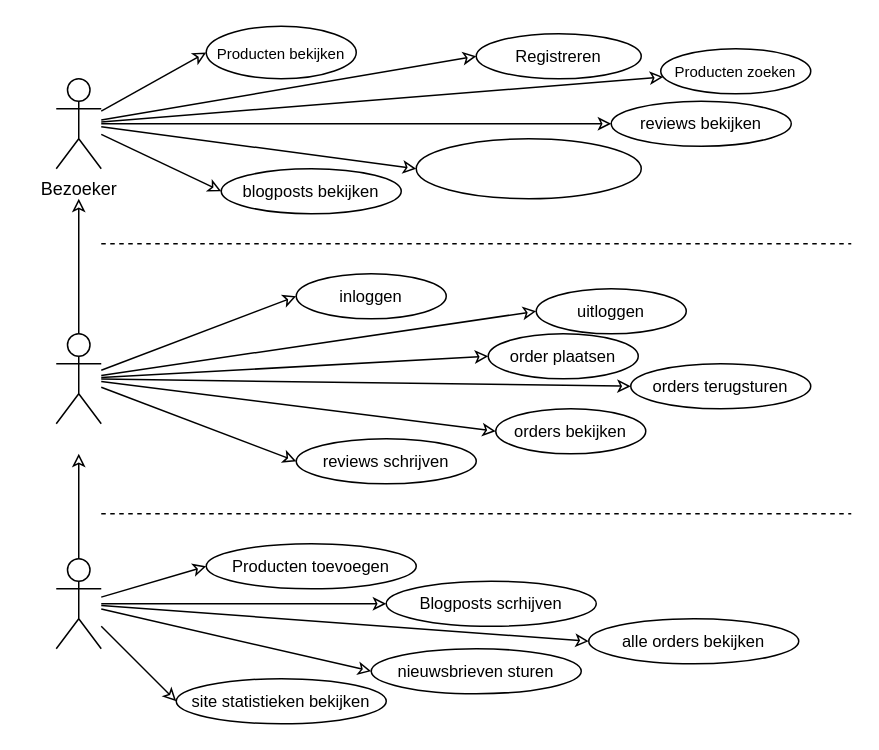
The diagram is 879 pixels wide and 750 high, and some of its shapes have lost their labels. Here are the shapes that lost their labels. From the top down, the box of each, then its label:
(415, 137, 641, 199): Toevoegen aan winkelwagentje
(55, 332, 101, 424): Client
(55, 557, 101, 649): Administrator
